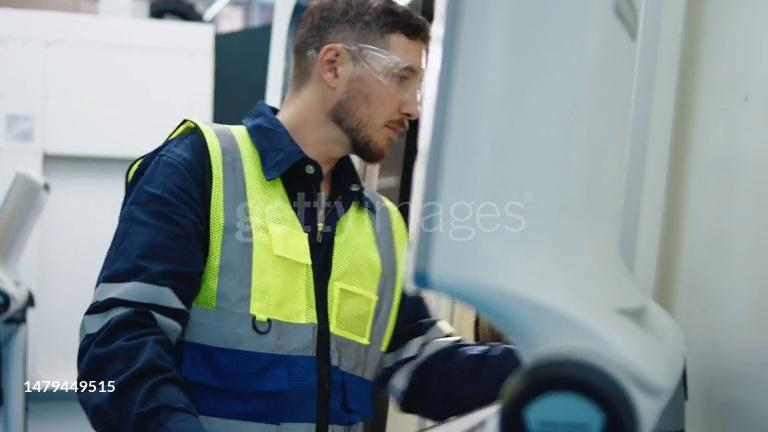person: (77, 0, 522, 432)
